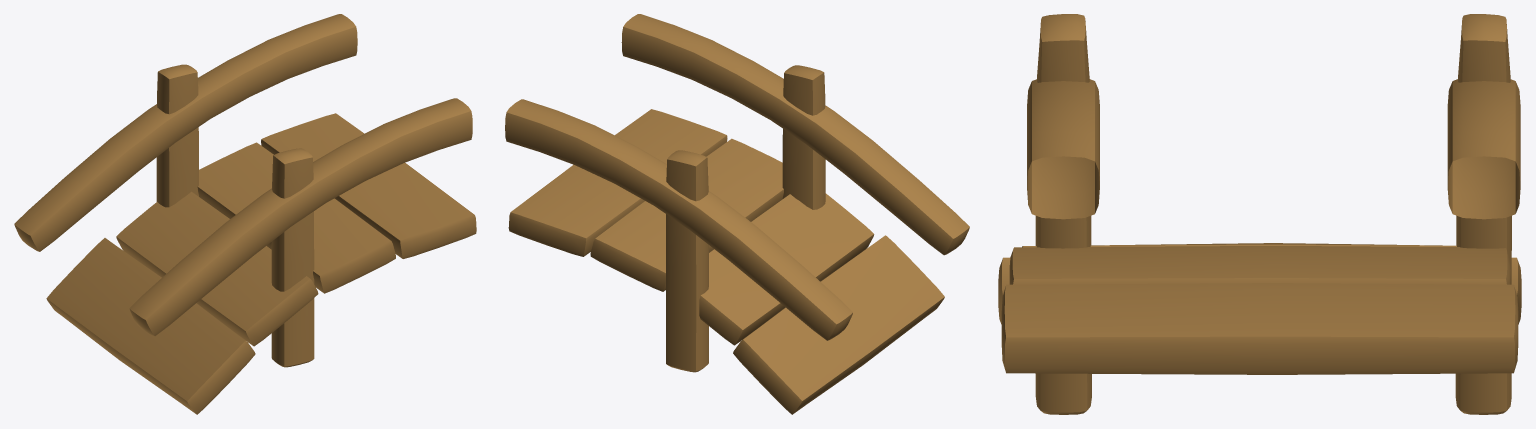
Rendered from Bridge_Modular.glb.
3 views of the same model, side by side, from view 1: azimuth 30°, elevation 25°; view 2: azimuth 150°, elevation 25°; view 3: azimuth 270°, elevation 25° (orthographic). The views are drawn at different scales.
Visible parts, largest first — view 1: Bridge_Modular; view 2: Bridge_Modular; view 3: Bridge_Modular.
Boxes of the visible parts, x1,y1,x2,y2 form: Bridge_Modular: (14, 14, 476, 414); Bridge_Modular: (505, 14, 969, 414); Bridge_Modular: (998, 14, 1521, 414).
Size of the model in its own units: 2.95 by 2.01 by 2.24.
